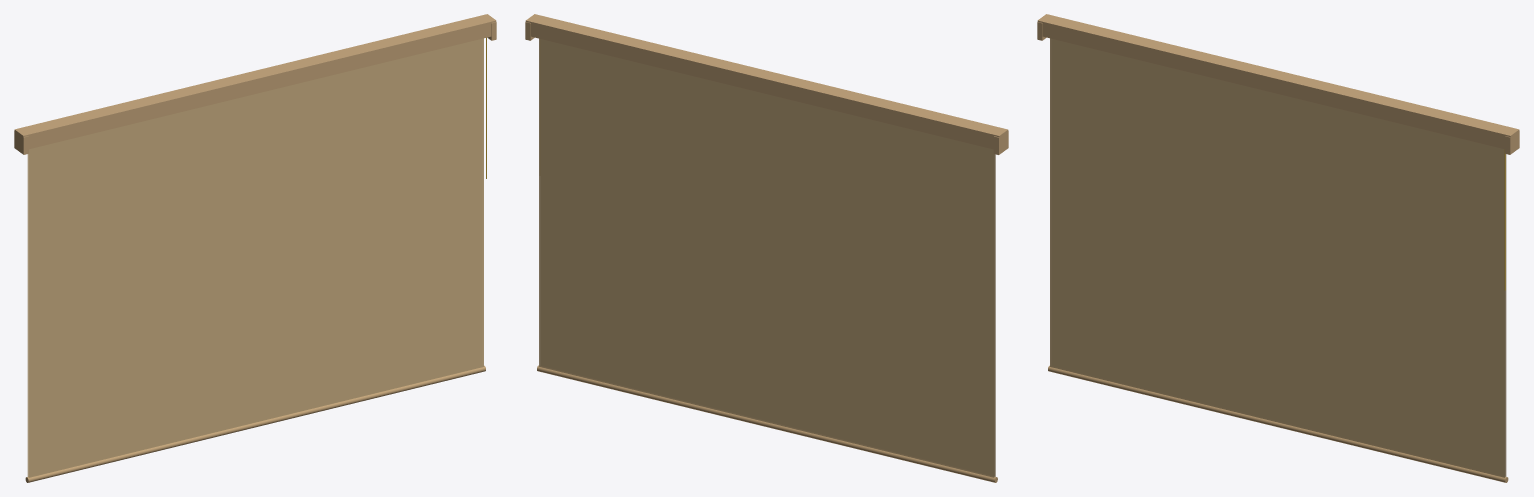
File: curtain-rainbow-goldenweave.glb
3 views of the same model, side by side, from view 1: azimuth 30°, elevation 25°; view 2: azimuth 150°, elevation 25°; view 3: azimuth 330°, elevation 25° (orthographic).
Parts seen in each view (by area): view 1: RainbowFrontFabric, RainbowTopHood, RainbowBottomBar, RainbowBackFabric; view 2: RainbowBackFabric, RainbowTopHood, RainbowBottomBar, RainbowFrontFabric; view 3: RainbowFrontFabric, RainbowTopHood, RainbowBottomBar, RainbowBackFabric.
Boxes of the visible parts, x1,y1,x2,y2 form: RainbowFrontFabric: (29, 38, 483, 477); RainbowTopHood: (14, 14, 496, 150); RainbowBottomBar: (25, 365, 485, 482); RainbowBackFabric: (27, 154, 28, 476); RainbowBackFabric: (539, 38, 994, 477); RainbowTopHood: (525, 14, 1008, 150); RainbowBottomBar: (537, 365, 997, 482); RainbowFrontFabric: (994, 154, 995, 476); RainbowFrontFabric: (1050, 38, 1504, 477); RainbowTopHood: (1037, 14, 1519, 150); RainbowBottomBar: (1048, 365, 1508, 482); RainbowBackFabric: (1505, 154, 1506, 476).
Size of the model in its own units: 3.68 by 2.61 by 0.13.
